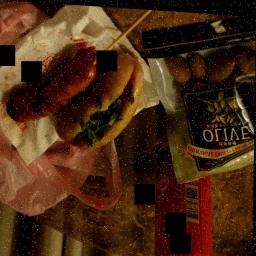hotdog: (12, 10, 154, 159)
